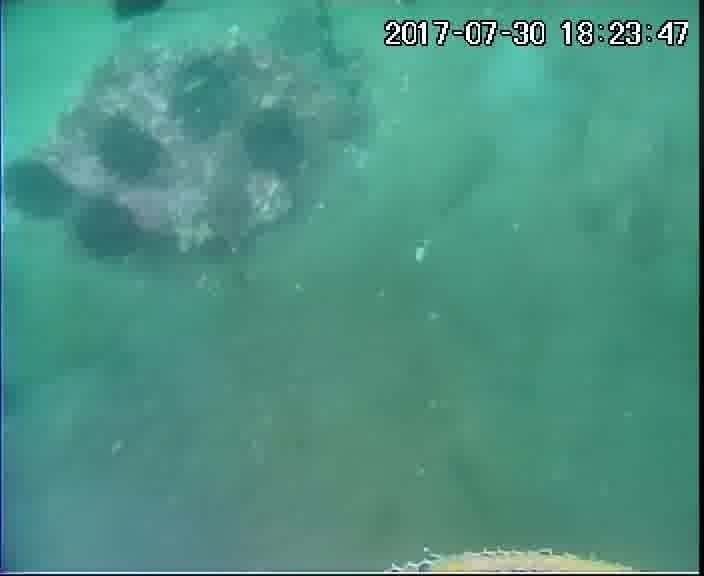echinus: (163, 51, 244, 144), (90, 113, 168, 188), (236, 105, 311, 182), (68, 195, 146, 267), (1, 154, 75, 226), (105, 0, 170, 28)
